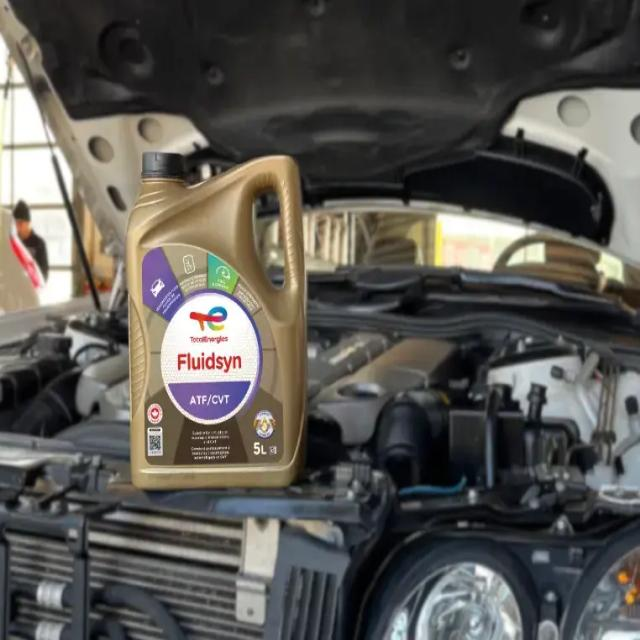motor_oil: (128, 141, 311, 488)
